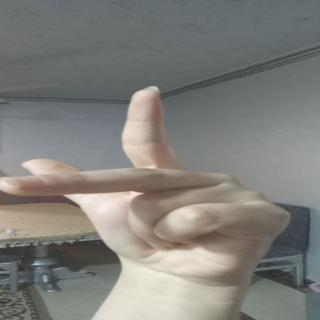DHAA: (4, 81, 300, 273)
